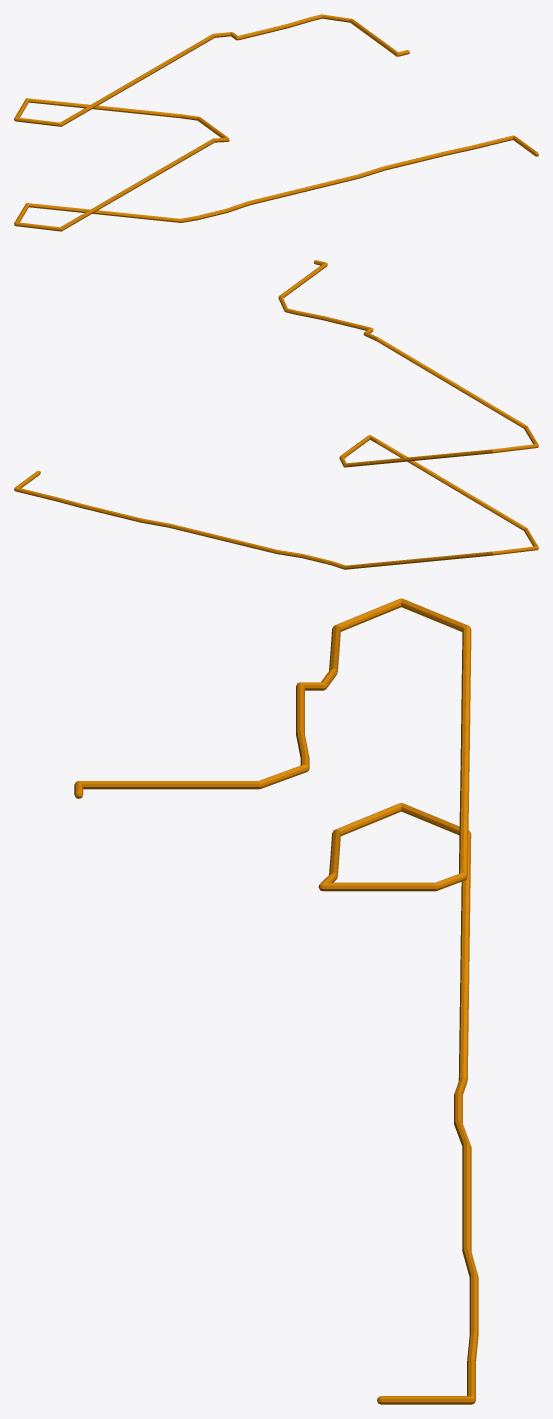
3 views of the same model, one above another, from view 1: azimuth 30°, elevation 25°; view 2: azimuth 150°, elevation 25°; view 3: azimuth 270°, elevation 25° (orthographic). The views are drawn at different scales.
Size of the model in its own units: 2595 by 1020 by 896.
